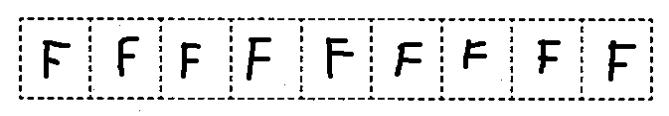F: (600, 37, 641, 86), (320, 33, 358, 83), (388, 36, 426, 84), (242, 31, 276, 83), (38, 34, 73, 83), (530, 34, 568, 78), (111, 32, 142, 80), (458, 34, 494, 74), (175, 36, 206, 81)
